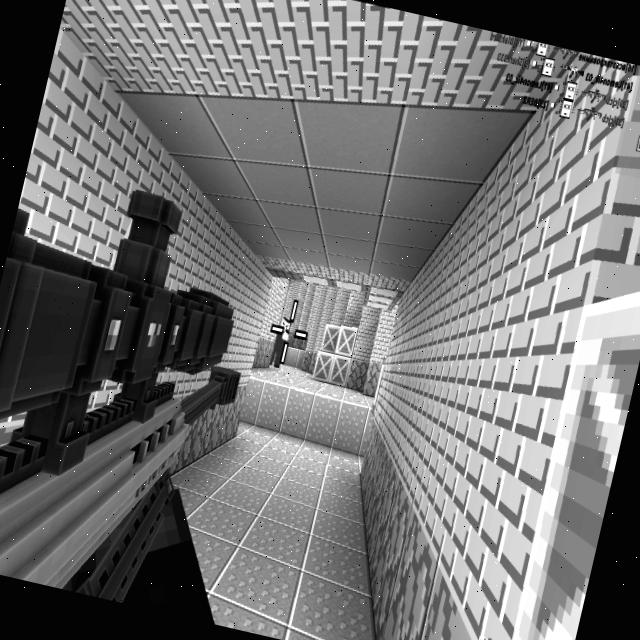Head: (278, 316, 292, 334)
Player: (267, 314, 294, 371)
